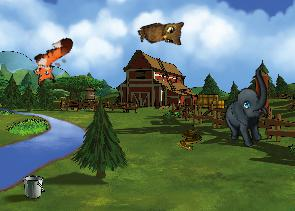elephant: (210, 66, 288, 152)
fox: (23, 34, 85, 90)
owl: (136, 16, 188, 55)
